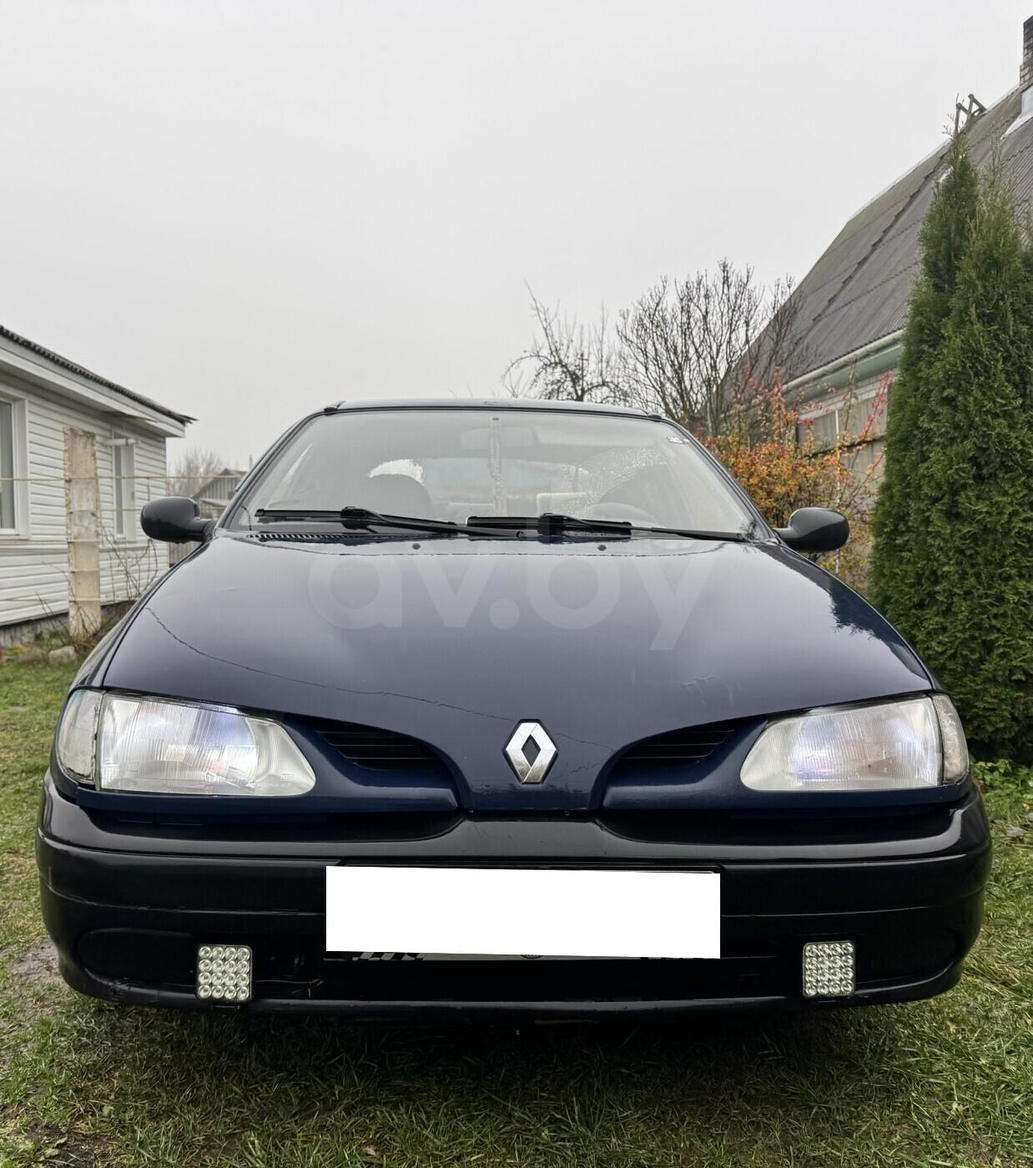Megane_1995-1999: (37, 390, 995, 1043)
